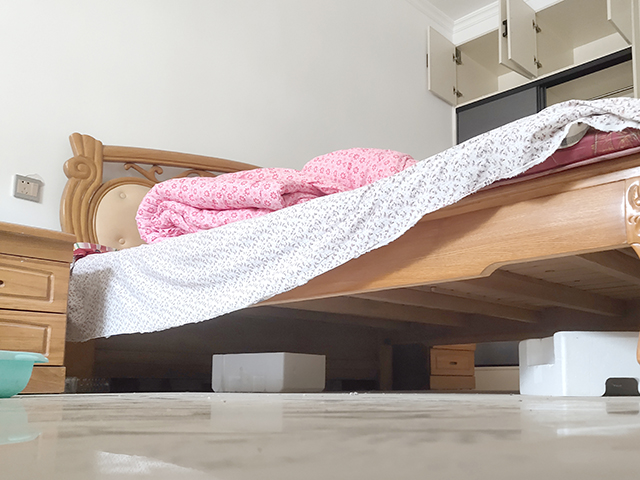bed: (57, 95, 640, 394)
cabinet: (1, 221, 79, 395), (391, 342, 478, 392)
